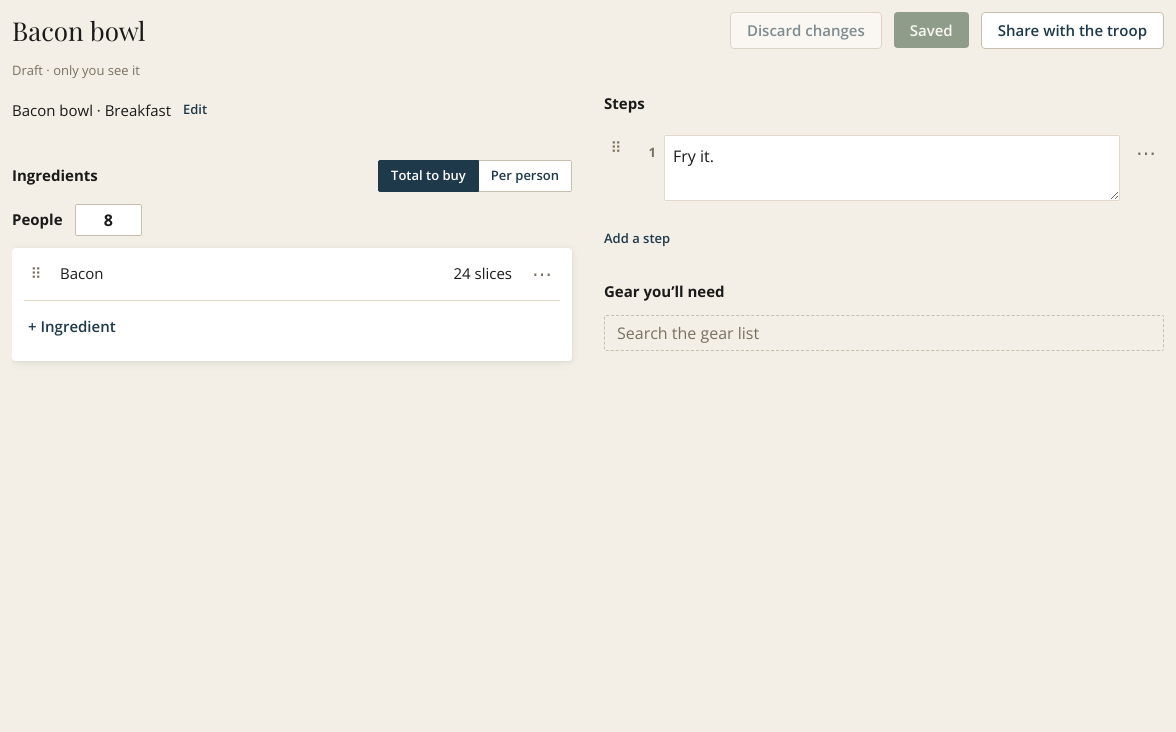
Test: RecipeEditor typed-in ingredients (Phase 4B) › Search_OffersTypedTextAsANewIngredient
Click the button "+ Ingredient". click: point(72, 326)
box: [24,304,120,348]
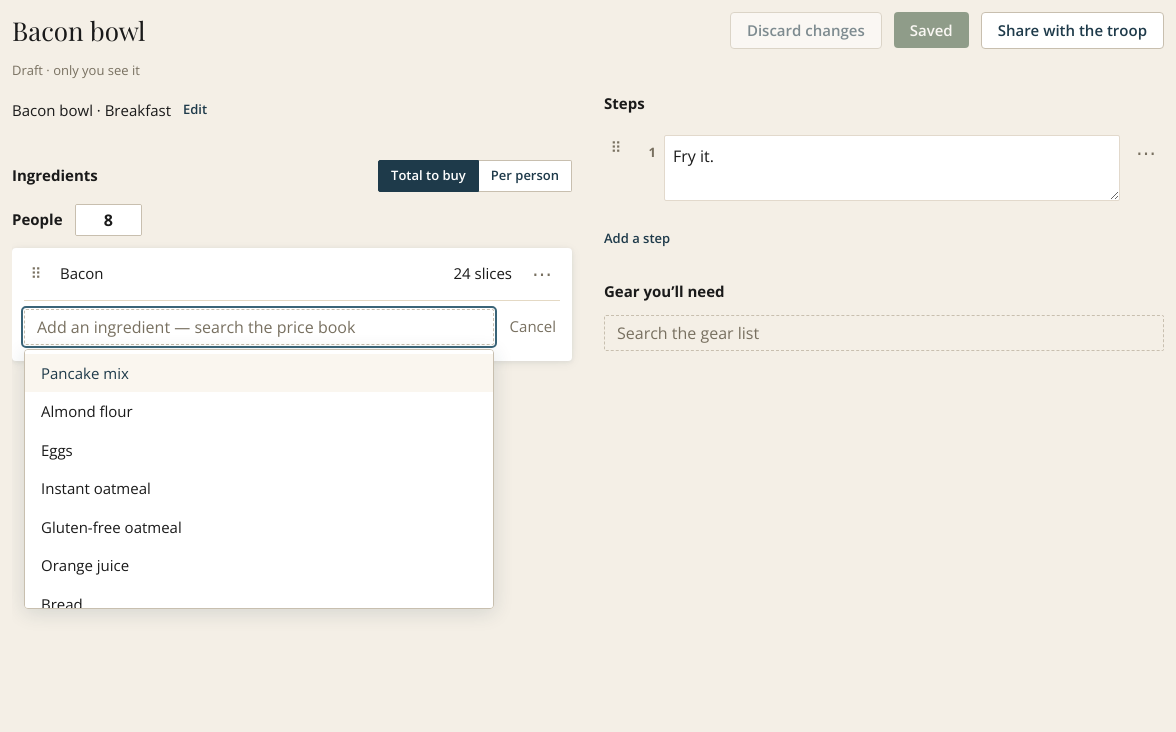
Type "Gochujang" into the dropdown labelled "Add an ingredient". click: point(259, 326)
box: [24,308,494,344]
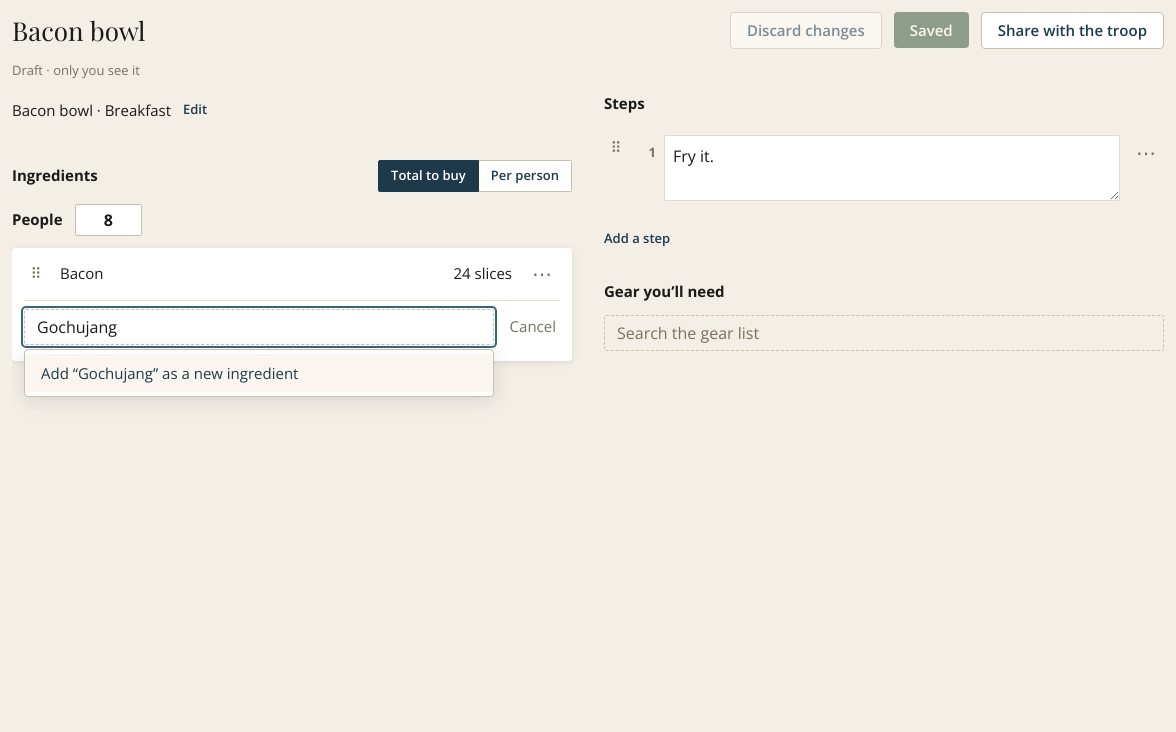
Expected: the option "Add “Gochujang” as a new ingredient" is shown, [25,354,493,392]
